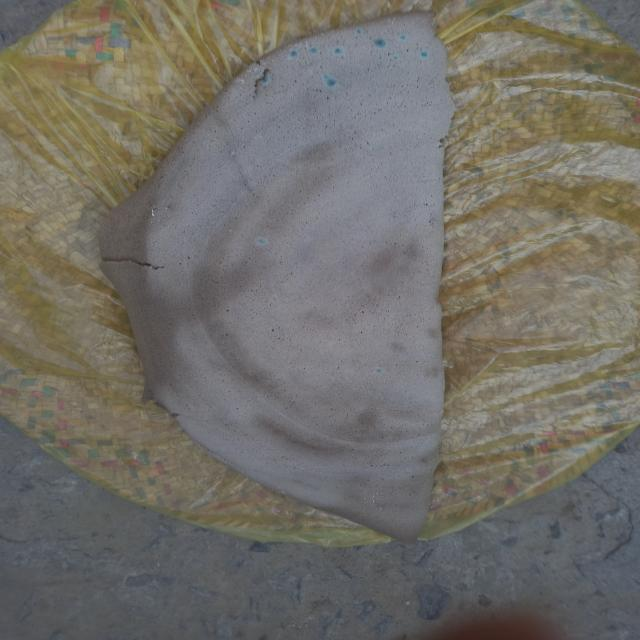injera_mold: (254, 236, 272, 248), (374, 38, 387, 49), (287, 50, 299, 59), (333, 47, 344, 56), (324, 79, 336, 87), (373, 366, 385, 374), (260, 75, 270, 83), (276, 486, 286, 494), (308, 47, 319, 54), (234, 78, 246, 84), (246, 66, 258, 72), (354, 28, 364, 35), (420, 51, 429, 58), (371, 495, 376, 504), (151, 209, 155, 217), (400, 35, 406, 40), (322, 75, 330, 78), (308, 71, 314, 75), (392, 56, 398, 60), (165, 207, 168, 210), (363, 498, 366, 500), (364, 502, 367, 504), (168, 215, 170, 218), (376, 493, 378, 495), (381, 493, 383, 495), (380, 508, 382, 510), (154, 206, 156, 208), (158, 220, 160, 222), (151, 221, 153, 223)
